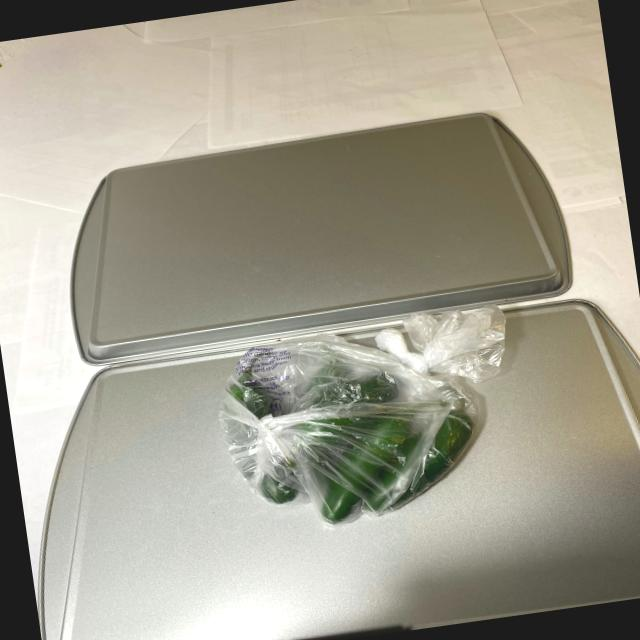chilli: (209, 326, 486, 526)
